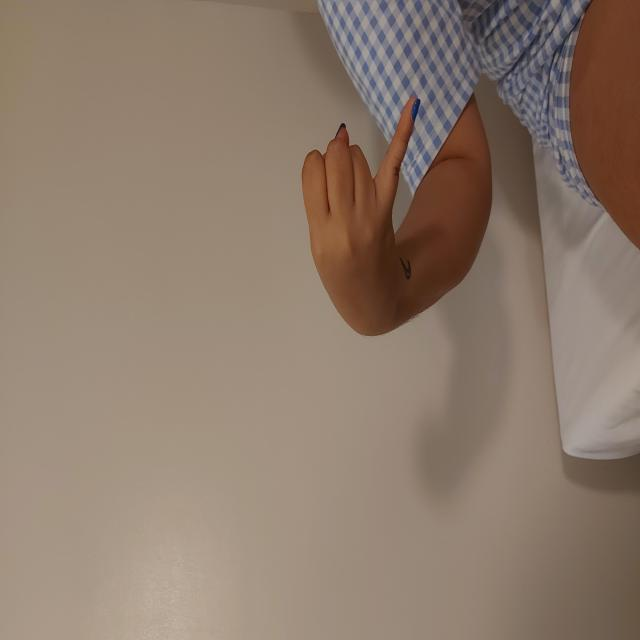J: (302, 302, 546, 421)
